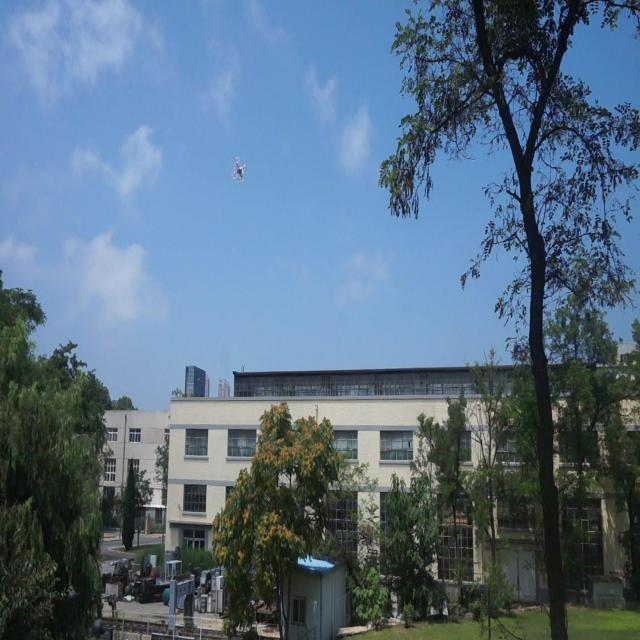UAV: (230, 156, 245, 182)
